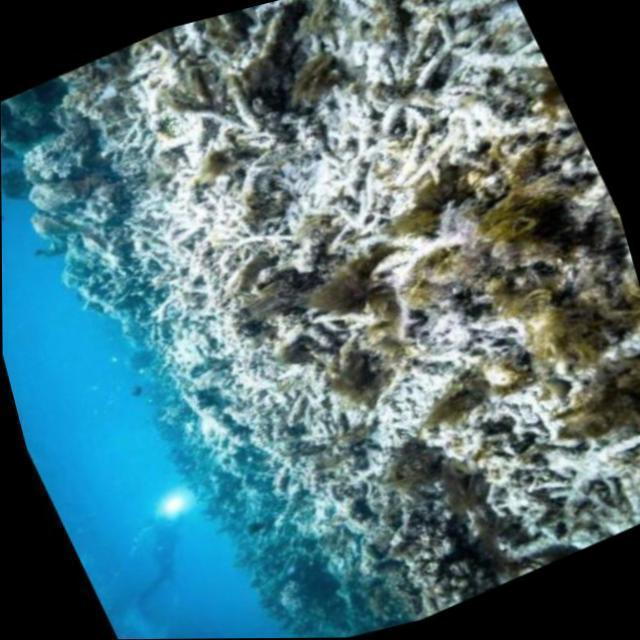Dead Coral: (205, 0, 606, 292), (392, 286, 640, 597), (116, 181, 347, 512), (48, 11, 297, 310), (370, 502, 511, 628)
